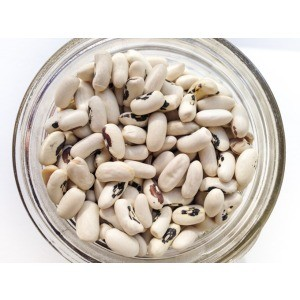beans_brain food: (93, 91, 195, 242)
